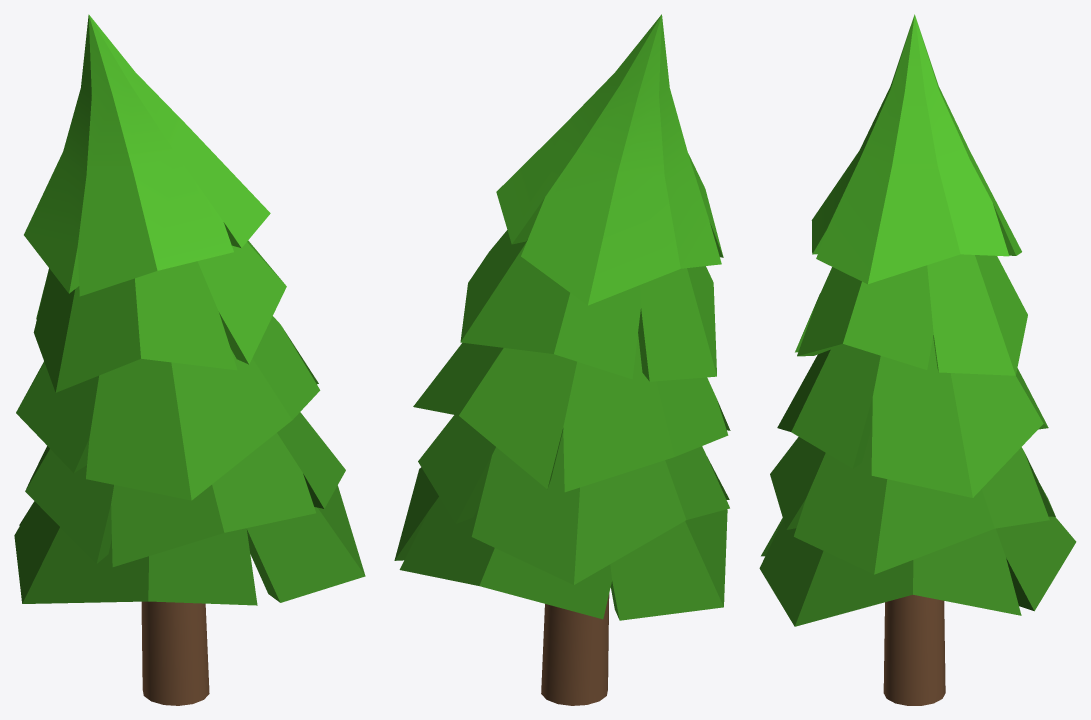
Rendered from Spruce_Green_2.fbx.
3 renders of one model, left to right at view 1: azimuth 30°, elevation 25°; view 2: azimuth 150°, elevation 25°; view 3: azimuth 270°, elevation 25°, orthographic. The views are drawn at different scales.
Parts seen in each view (by area): view 1: Cylinder.345, Cylinder.344, Cylinder.343, Cylinder.341, Cylinder.342, Cylinder.340; view 2: Cylinder.345, Cylinder.344, Cylinder.342, Cylinder.343, Cylinder.341, Cylinder.340; view 3: Cylinder.345, Cylinder.344, Cylinder.342, Cylinder.343, Cylinder.341, Cylinder.340.
Part boxes in pixels (bbox=[...]): Cylinder.345: bbox=[24, 14, 270, 296]; Cylinder.344: bbox=[16, 316, 320, 500]; Cylinder.343: bbox=[33, 240, 286, 392]; Cylinder.341: bbox=[14, 485, 365, 605]; Cylinder.342: bbox=[25, 412, 345, 566]; Cylinder.340: bbox=[141, 601, 209, 705]; Cylinder.345: bbox=[496, 14, 723, 305]; Cylinder.344: bbox=[413, 334, 730, 492]; Cylinder.342: bbox=[418, 415, 729, 584]; Cylinder.343: bbox=[460, 230, 716, 381]; Cylinder.341: bbox=[394, 467, 727, 620]; Cylinder.340: bbox=[541, 594, 609, 705]; Cylinder.345: bbox=[811, 14, 1021, 284]; Cylinder.344: bbox=[777, 337, 1048, 497]; Cylinder.342: bbox=[770, 425, 1055, 574]; Cylinder.343: bbox=[795, 254, 1027, 375]; Cylinder.341: bbox=[759, 516, 1076, 626]; Cylinder.340: bbox=[883, 595, 945, 705].
Size of the model in its own units: 262 by 568 by 255.
